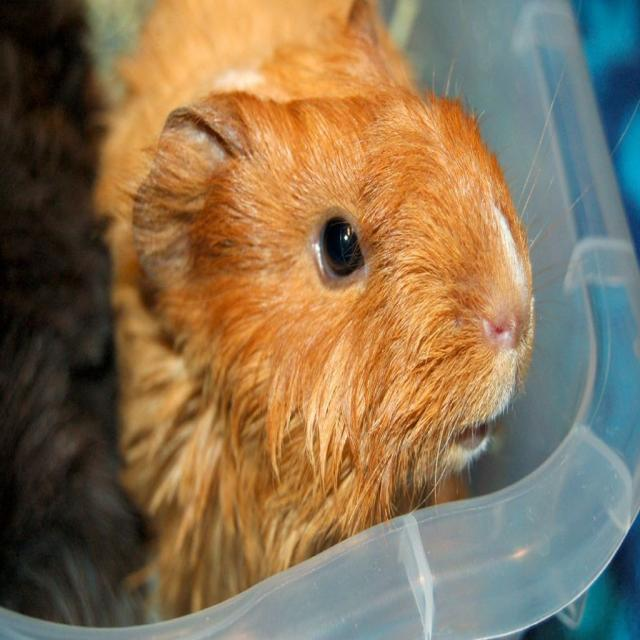rat: (78, 0, 640, 623), (104, 70, 415, 276)
